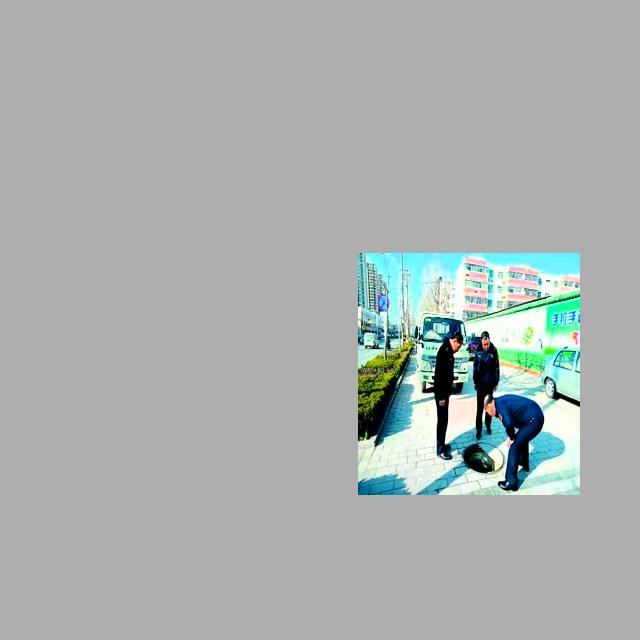broke: (458, 434, 510, 474)
